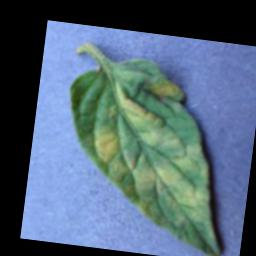Leaf_Mold: (50, 48, 244, 256)
